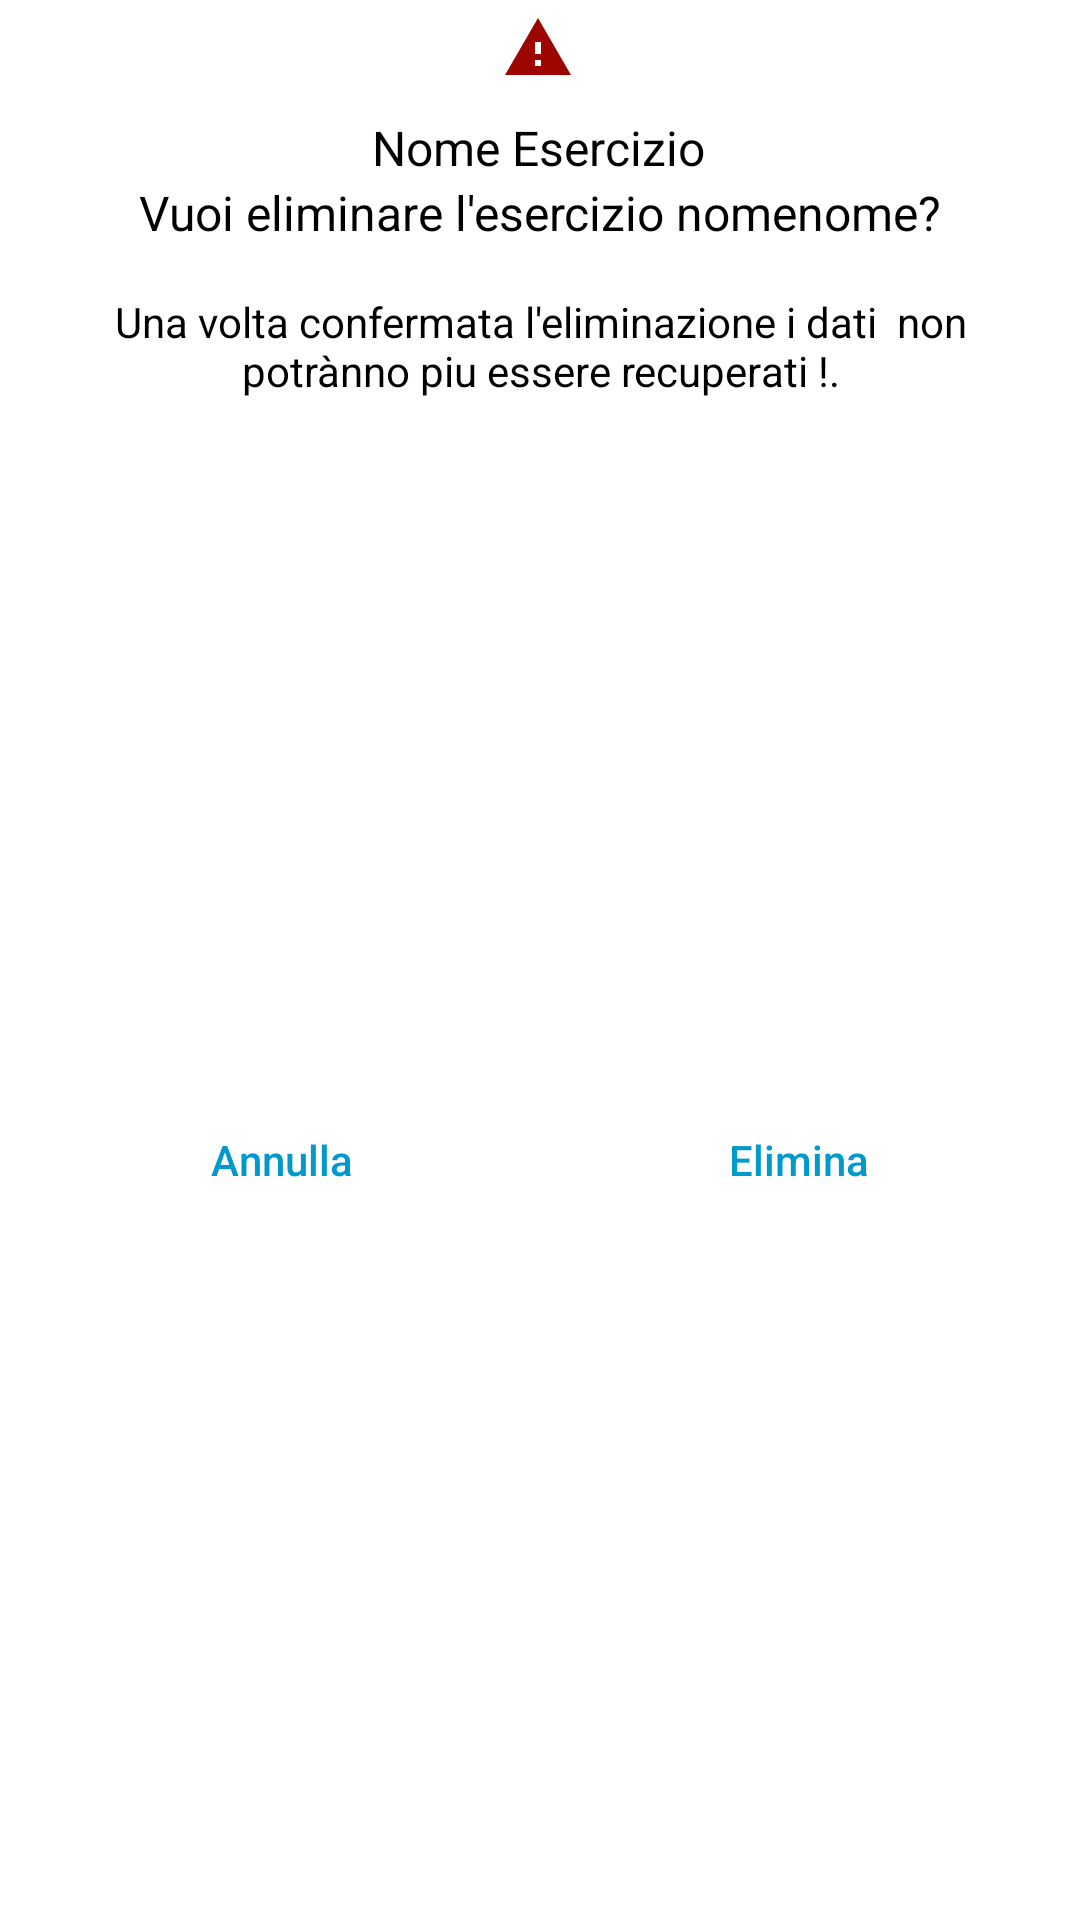

Point at icon controls on the screen. Image size 1080*1920, points as point (x, y).
warning: point (538, 46)
